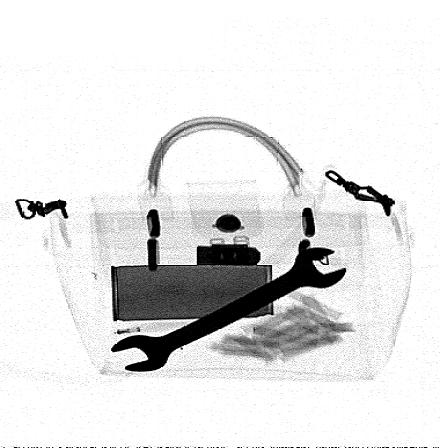Wrench: (108, 248, 346, 375)
